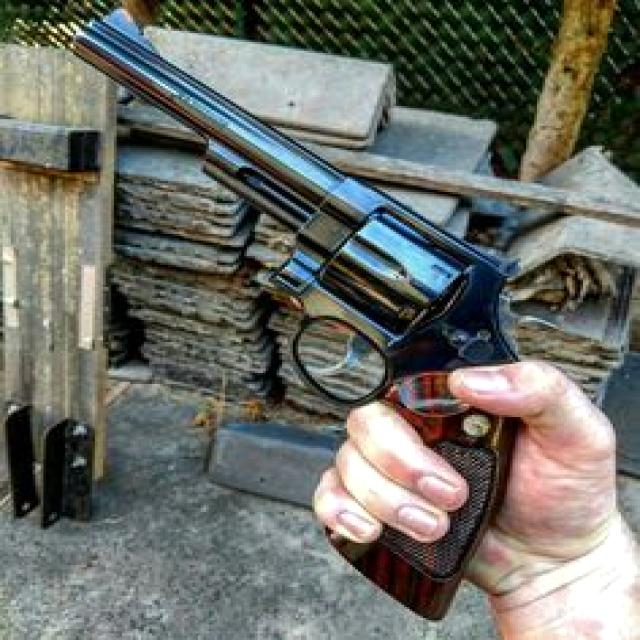revolver: (56, 0, 639, 623)
